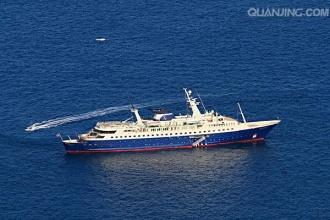youlun: (55, 97, 284, 157)
